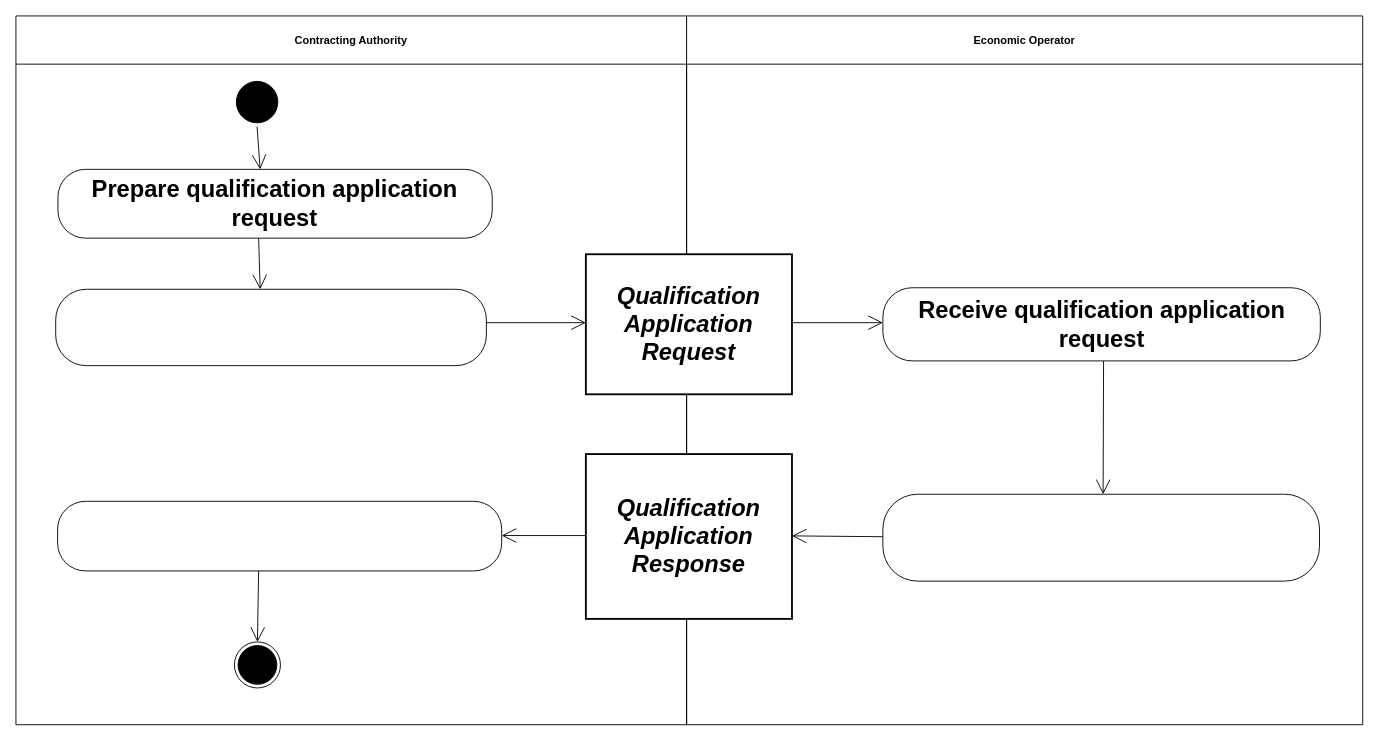
Some shapes in this 1379 by 741 pixel diagram are drawn without their labels. Each missing label, with the centre of its shape:
"Receive qualification application response" goes at point 279,535.
"Submit qualification application request" goes at point 270,327.
"Submit qualification application response" goes at point 1101,537.
